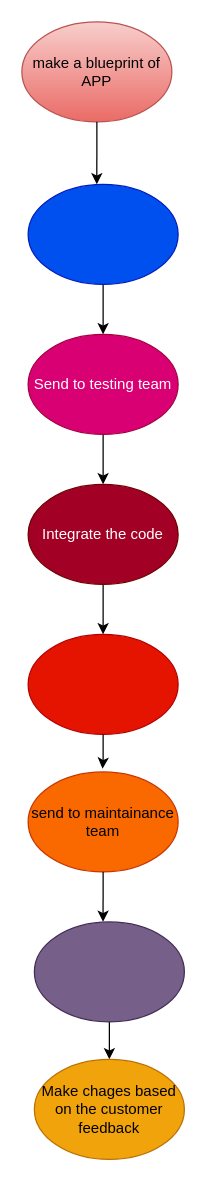
Some shapes in this 206 by 1181 pixel diagram are drawn without their labels. Here are the shapes that lost their labels. From the top down, the centre of each, then its label:
the point at 102,233: Code the app
the point at 102,683: Release the code in cloud
the point at 108,971: Monitor the performance
